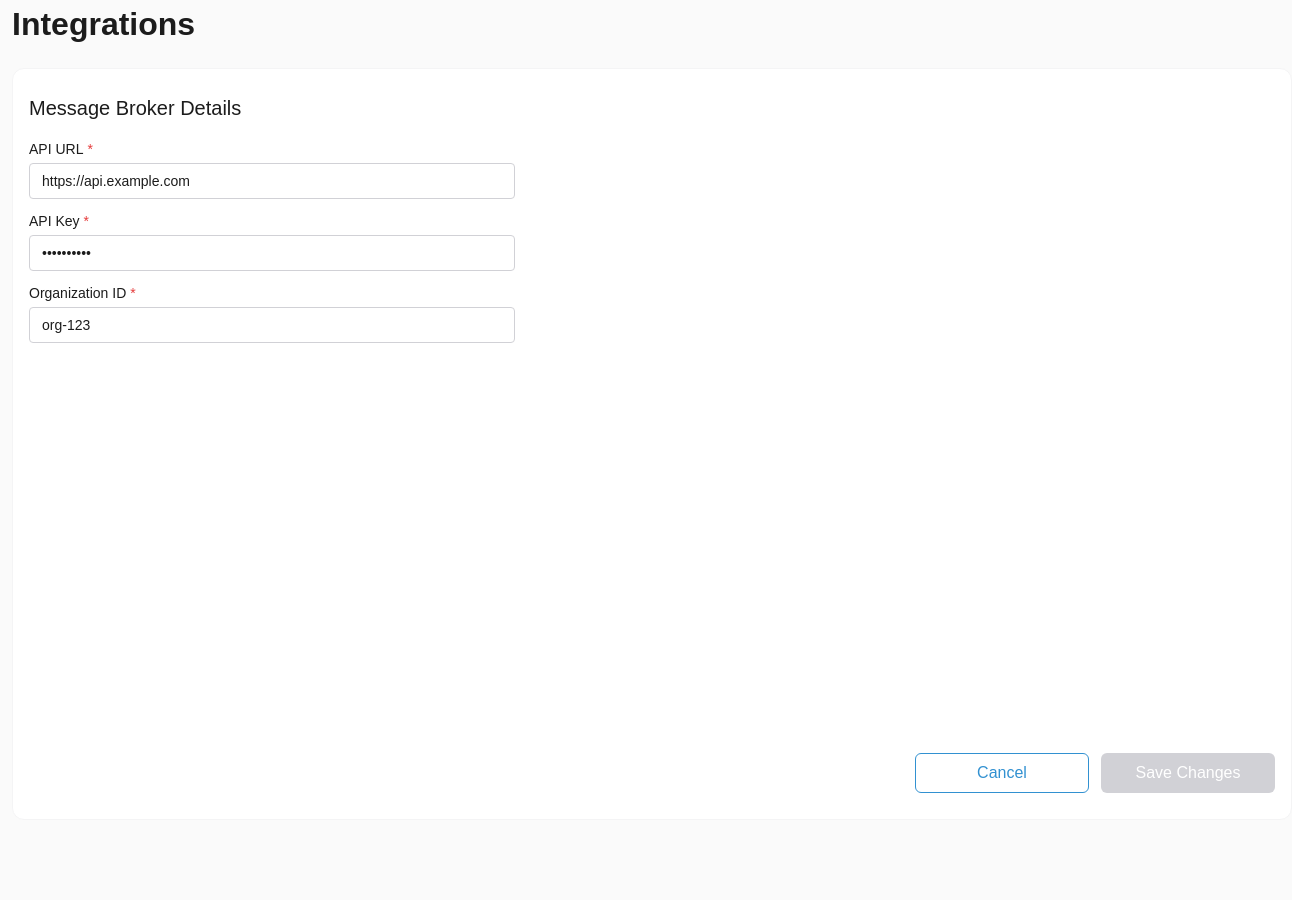
Test: IntegrationPage › shows inline error for HTML tags in organization ID
The width and height of the screenshot is (1292, 900).
Step 1. Replace the text in the field showing "org-123" with "<script>alert(1)</script>" → (272, 325), box [29,307,515,343]
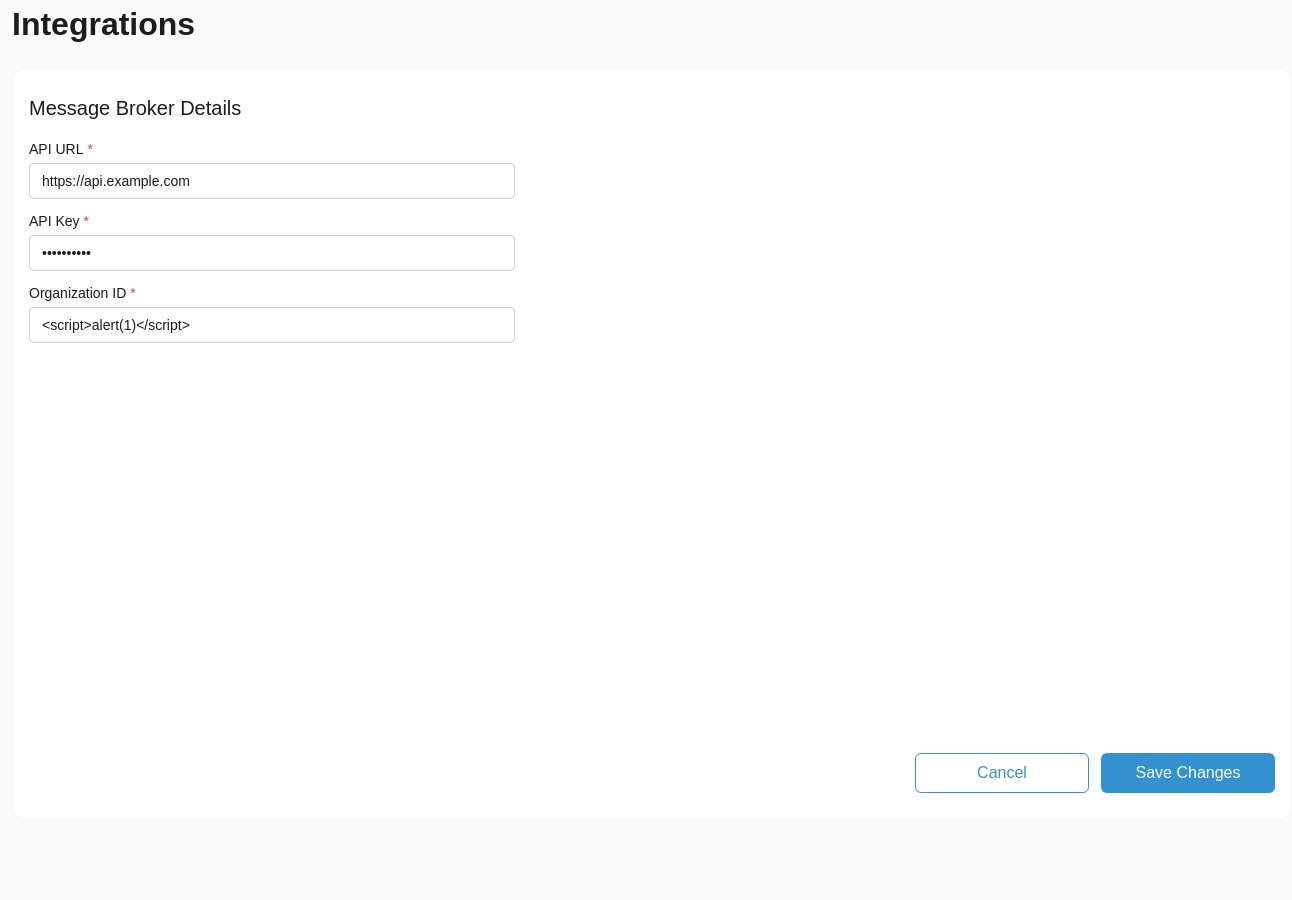
Step 2. Click the button "Save Changes" → (1188, 773), box [1101,753,1275,793]
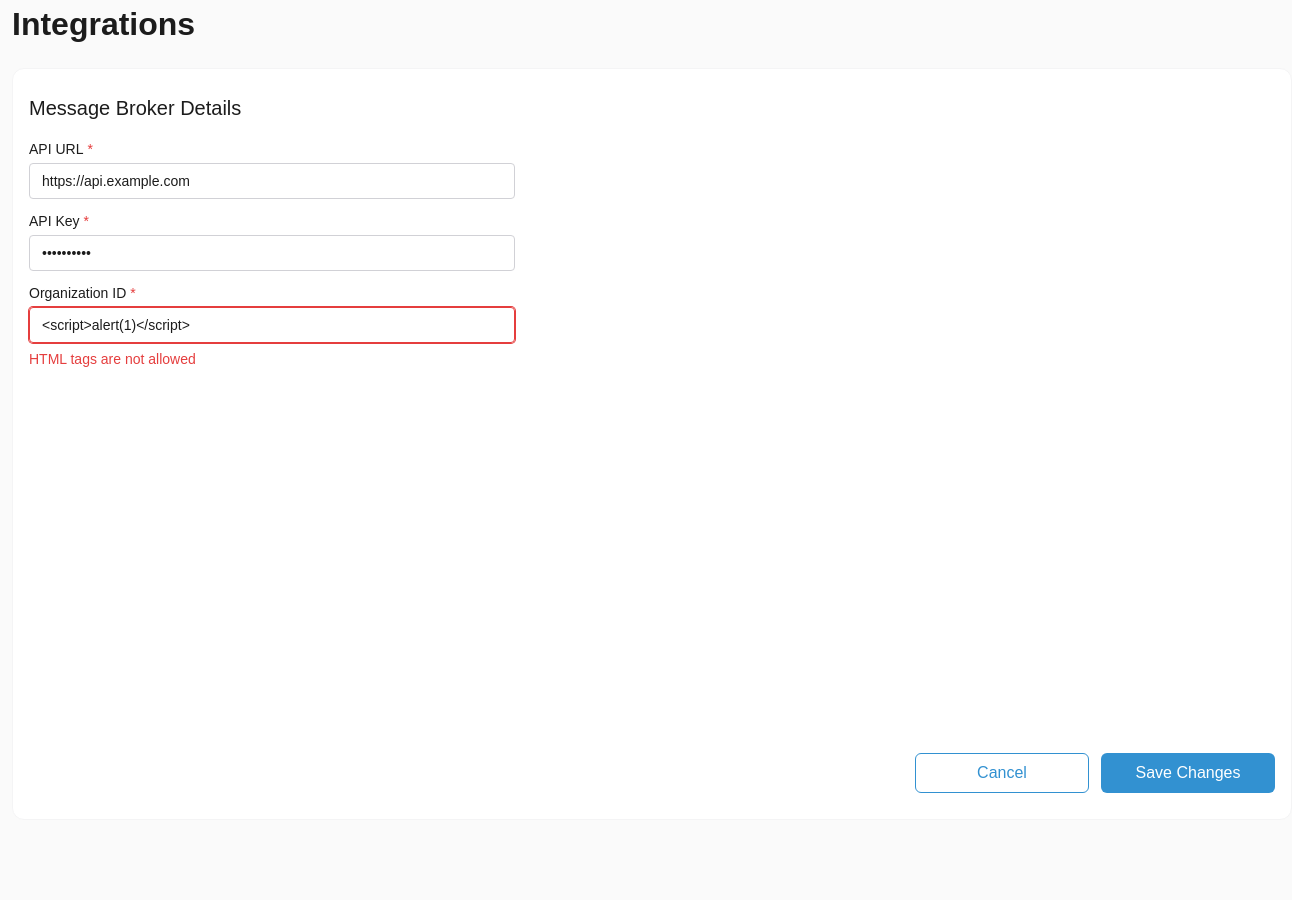
Check: the text "HTML tags are not allowed" is shown, box [29,351,196,367]
